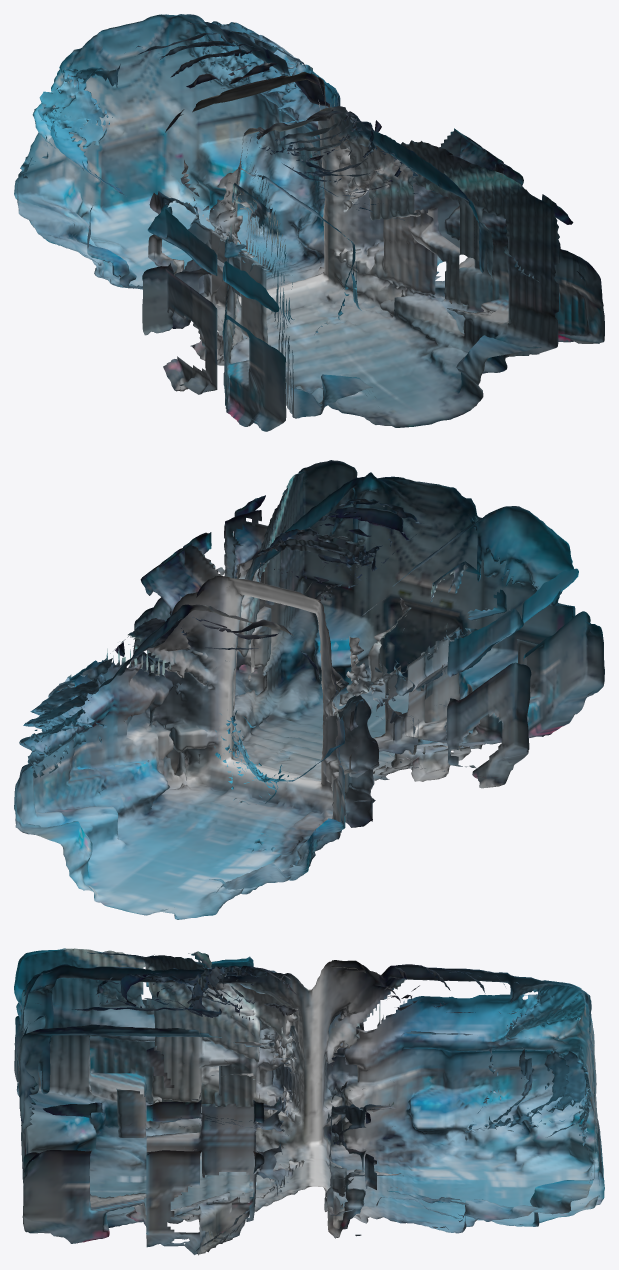
File: environment_collider.glb
The picture shows the model from 3 angles, top to bottom: view 1: azimuth 30°, elevation 25°; view 2: azimuth 150°, elevation 25°; view 3: azimuth 270°, elevation 25°; orthographic projection. The views are drawn at different scales.
Visible parts, largest first — view 1: world; view 2: world; view 3: world.
Part boxes in pixels (bbox=[...]): world: bbox=[14, 14, 604, 431]; world: bbox=[14, 460, 604, 919]; world: bbox=[14, 948, 604, 1255].
Size of the model in its own units: 1.58 by 0.9802 by 2.43.
